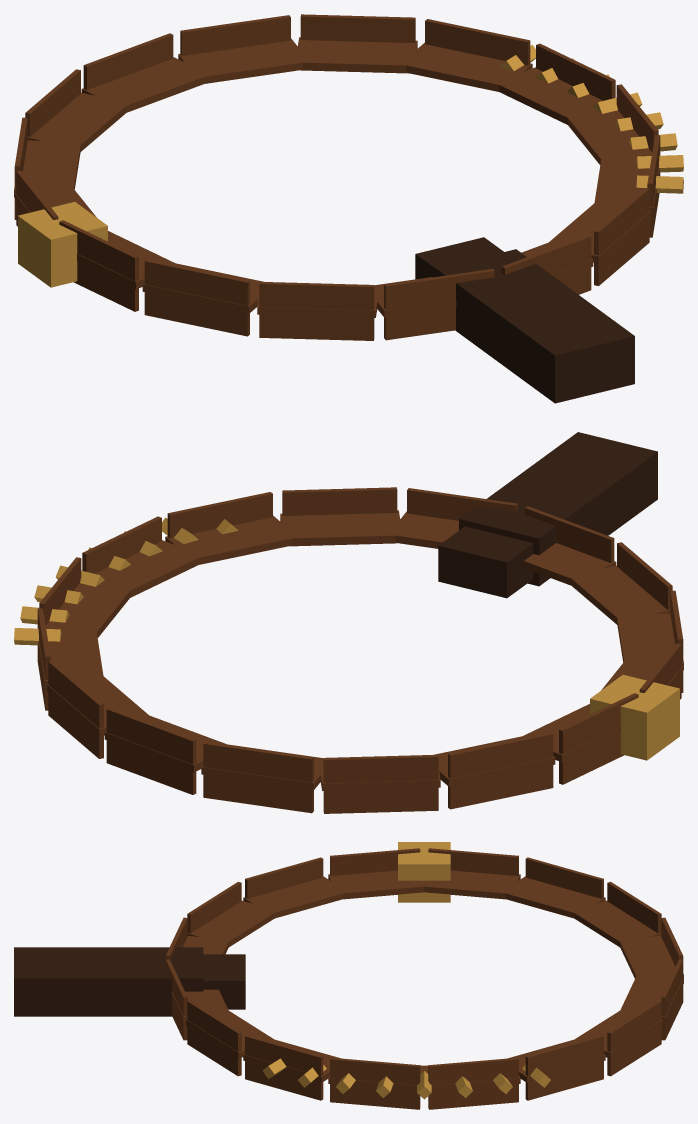
Rendered from SM_Gun_Belt.obj.
3 renders of one model, top to bottom at view 1: azimuth 30°, elevation 25°; view 2: azimuth 150°, elevation 25°; view 3: azimuth 270°, elevation 25°, orthographic. The views are drawn at different scales.
Parts seen in each view (by area): view 1: SM_Gun_Belt; view 2: SM_Gun_Belt; view 3: SM_Gun_Belt.
Part boxes in pixels (left/top/right/bottom): SM_Gun_Belt: left=14, top=14, right=683, bottom=403; SM_Gun_Belt: left=14, top=432, right=683, bottom=813; SM_Gun_Belt: left=14, top=842, right=683, bottom=1109.
Size of the model in its own units: 0.5275 by 0.0455 by 0.6366.
